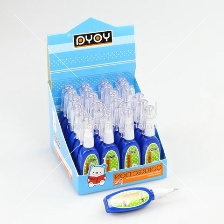book: (43, 14, 169, 199)
correction_fluid: (101, 184, 182, 217), (108, 93, 135, 179), (115, 102, 142, 186), (89, 97, 117, 174), (74, 110, 101, 187), (96, 108, 122, 187), (71, 102, 98, 175), (54, 81, 81, 153), (129, 94, 154, 169), (137, 103, 162, 177), (67, 93, 90, 167), (60, 87, 82, 159)
